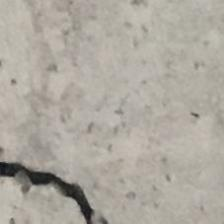Crack: (0, 135, 163, 224)
